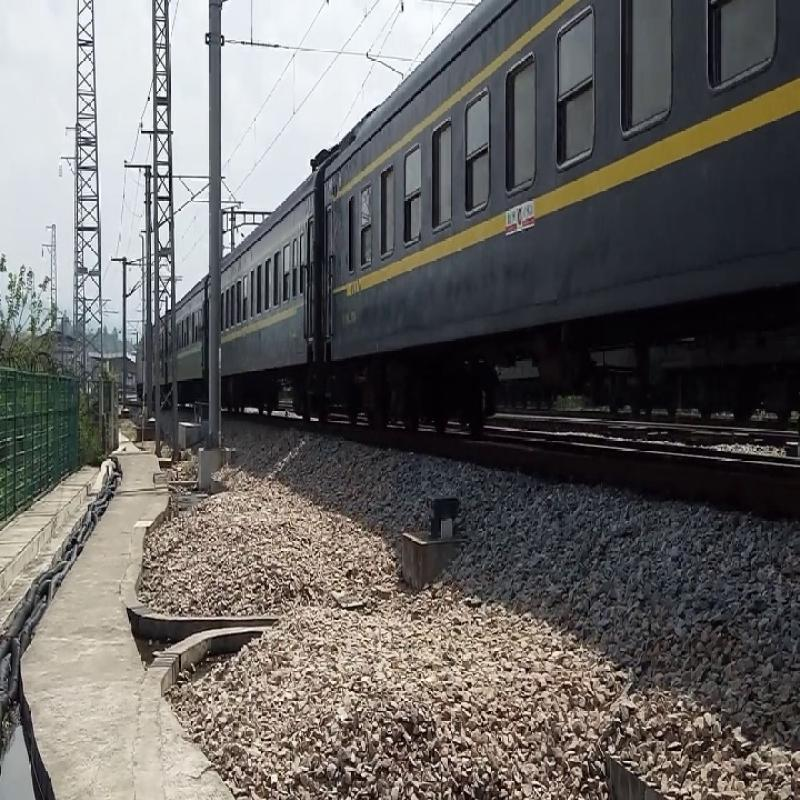train: (194, 263, 368, 408)
